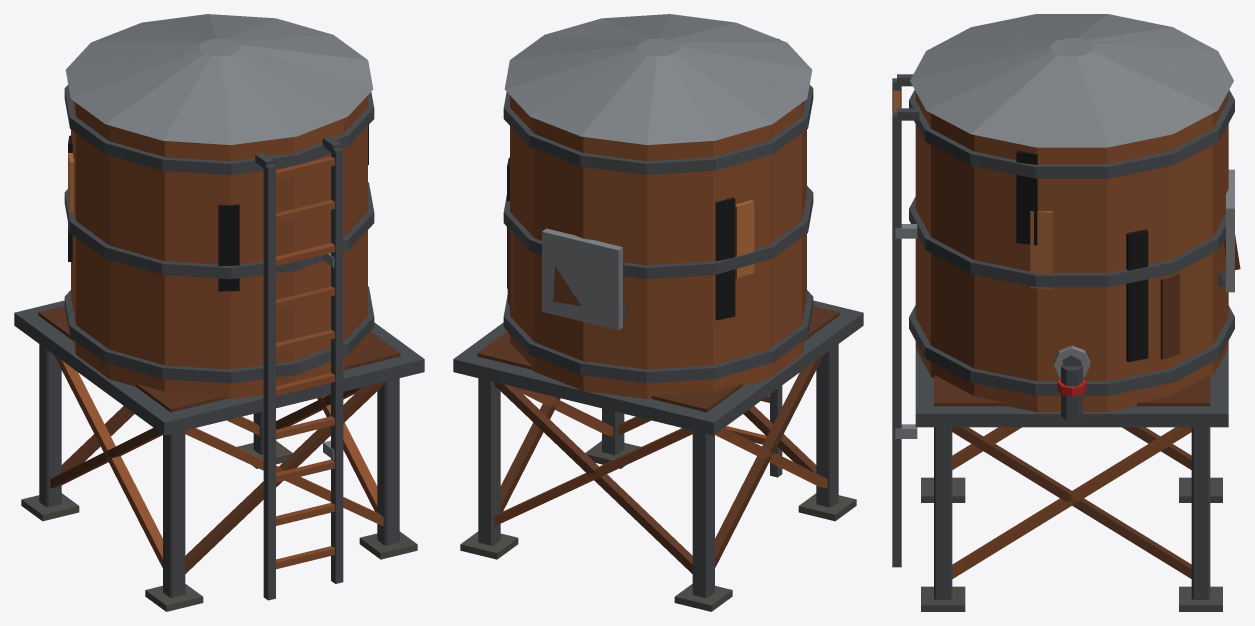
Rendered from bld_roof_water_tank.fbx.
The picture shows the model from 3 angles, left to right: view 1: azimuth 30°, elevation 25°; view 2: azimuth 150°, elevation 25°; view 3: azimuth 270°, elevation 25°; orthographic projection. The views are drawn at different scales.
Visible parts, largest first — view 1: bld_roof_water_tank; view 2: bld_roof_water_tank; view 3: bld_roof_water_tank.
Part boxes in pixels (x1=…): bld_roof_water_tank: x1=14, y1=14, x2=424, y2=611; bld_roof_water_tank: x1=453, y1=14, x2=863, y2=611; bld_roof_water_tank: x1=892, y1=14, x2=1240, y2=611.
Bounding box in the file's own units: 1.82 × 3 × 1.89.
